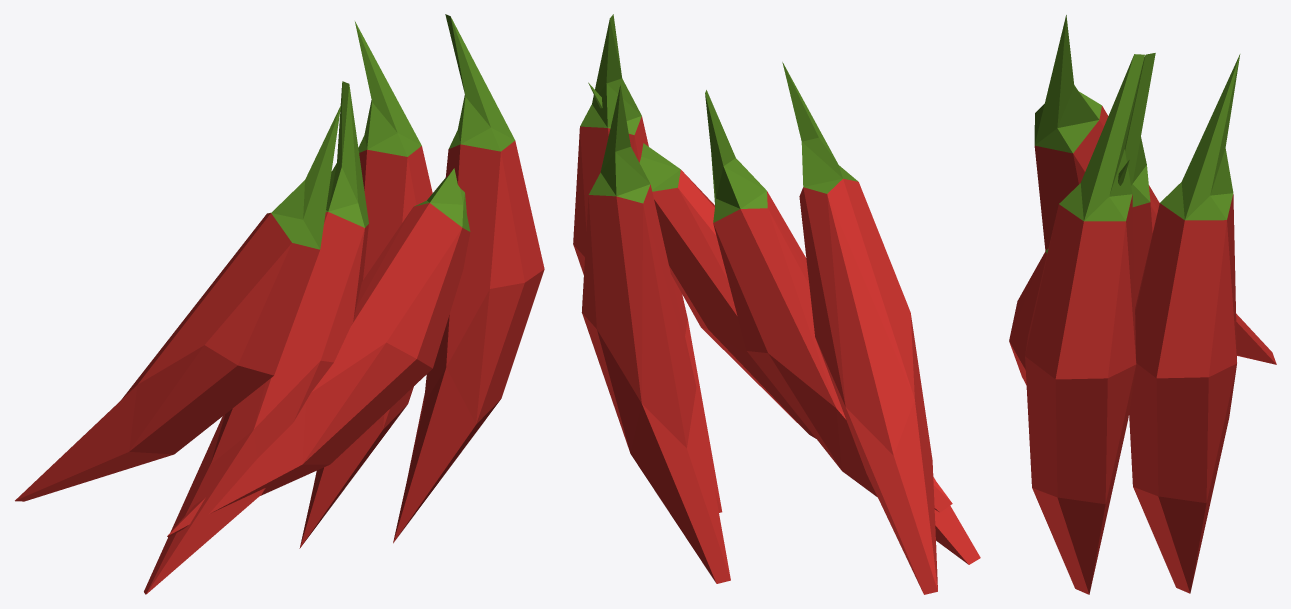
Rendered from cabe.fbx.
3 views of the same model, side by side, from view 1: azimuth 30°, elevation 25°; view 2: azimuth 150°, elevation 25°; view 3: azimuth 270°, elevation 25° (orthographic). The views are drawn at different scales.
Parts seen in each view (by area): view 1: cabe.004; view 2: cabe.004; view 3: cabe.004.
Boxes of the visible parts, x1=… form: cabe.004: x1=15, y1=14, x2=544, y2=594; cabe.004: x1=573, y1=14, x2=980, y2=594; cabe.004: x1=1009, y1=15, x2=1276, y2=594.
Size of the model in its own units: 16.62 by 18.6 by 7.37.
